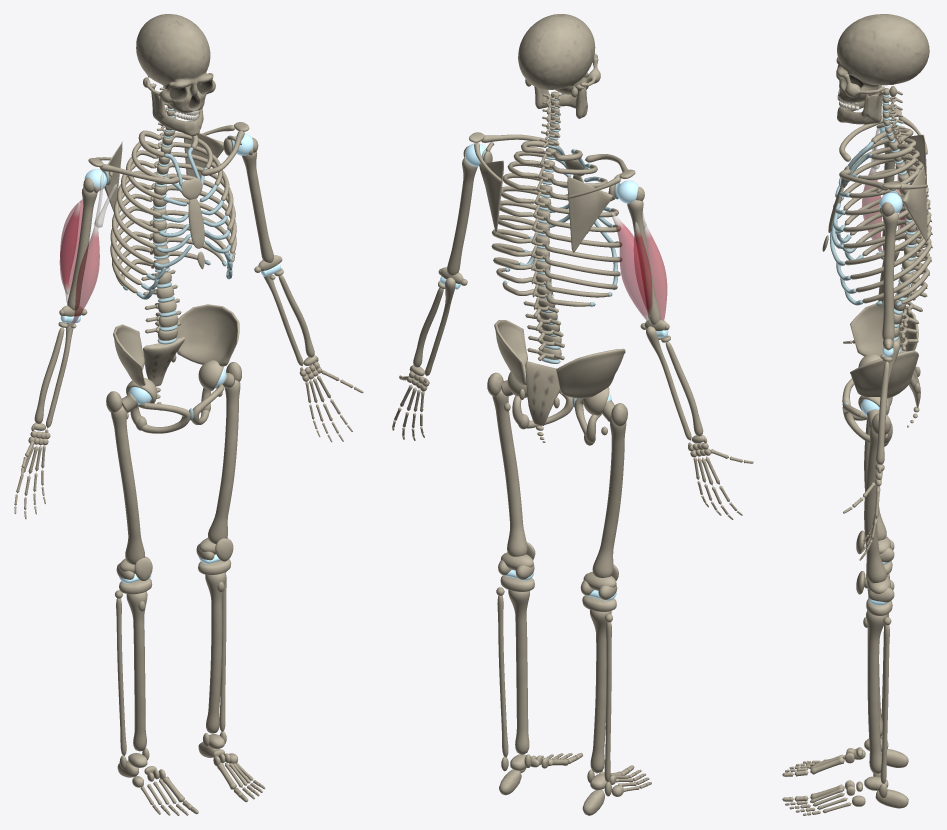
The model's file is skeleton.glb.
The picture shows the model from 3 angles, left to right: view 1: azimuth 30°, elevation 25°; view 2: azimuth 150°, elevation 25°; view 3: azimuth 270°, elevation 25°; orthographic projection. The views are drawn at different scales.
Visible parts, largest first — view 1: Skel_Ribs, Skel_Pelvis, Skel_Skull, Skel_Spine, Skel_Femur_R, Skel_Femur_L, Skel_Tibia_L, Skel_Tibia_R, Muscle_Biceps_R, Skel_Humerus_R, Skel_Foot_R, Skel_Humerus_L (+12 smaller); view 2: Skel_Ribs, Skel_Pelvis, Skel_Skull, Skel_Spine, Skel_Femur_L, Skel_Femur_R, Skel_Tibia_L, Skel_Tibia_R, Muscle_Triceps_R, Skel_Scapula_R, Skel_Humerus_R, Skel_Humerus_L (+13 smaller); view 3: Skel_Ribs, Skel_Skull, Skel_Pelvis, Skel_Femur_L, Skel_Tibia_L, Skel_Spine, Skel_Foot_L, Skel_Humerus_L, Skel_Foot_R, Skel_Scapula_L, Skel_Fibula_L, Skel_Radius_L (+10 smaller).
Part boxes in pixels (<box>): Skel_Ribs: <box>110,130,236,299</box>; Skel_Pelvis: <box>113,304,239,433</box>; Skel_Skull: <box>136,14,215,135</box>; Skel_Spine: <box>141,132,181,344</box>; Skel_Femur_R: <box>106,391,150,579</box>; Skel_Femur_L: <box>196,362,241,560</box>; Skel_Tibia_L: <box>198,559,231,746</box>; Skel_Tibia_R: <box>119,578,152,759</box>; Muscle_Biceps_R: <box>66,172,116,331</box>; Skel_Humerus_R: <box>59,177,99,316</box>; Skel_Foot_R: <box>117,753,198,815</box>; Skel_Humerus_L: <box>242,137,282,272</box>; Skel_Ribs: <box>491,140,622,306</box>; Skel_Pelvis: <box>494,320,625,445</box>; Skel_Skull: <box>518,14,600,118</box>; Skel_Spine: <box>523,148,564,363</box>; Skel_Femur_L: <box>487,372,534,579</box>; Skel_Femur_R: <box>580,400,627,599</box>; Skel_Tibia_L: <box>500,575,534,767</box>; Skel_Tibia_R: <box>582,595,616,782</box>; Muscle_Triceps_R: <box>611,212,652,325</box>; Skel_Scapula_R: <box>567,169,635,253</box>; Skel_Humerus_R: <box>627,187,669,331</box>; Skel_Humerus_L: <box>438,146,477,285</box>; Skel_Ribs: <box>830,128,931,306</box>; Skel_Skull: <box>836,14,929,124</box>; Skel_Pelvis: <box>842,303,920,446</box>; Skel_Femur_L: <box>864,409,894,602</box>; Skel_Tibia_L: <box>863,598,892,776</box>; Skel_Spine: <box>889,138,932,353</box>; Skel_Foot_L: <box>782,776,908,815</box>; Skel_Humerus_L: <box>880,202,898,350</box>; Skel_Foot_R: <box>782,738,908,776</box>; Skel_Scapula_L: <box>876,166,927,242</box>; Skel_Fibula_L: <box>879,616,891,797</box>; Skel_Radius_L: <box>875,356,892,473</box>.
Bounding box in the file's own units: 1.64 × 3.47 × 0.6129.
